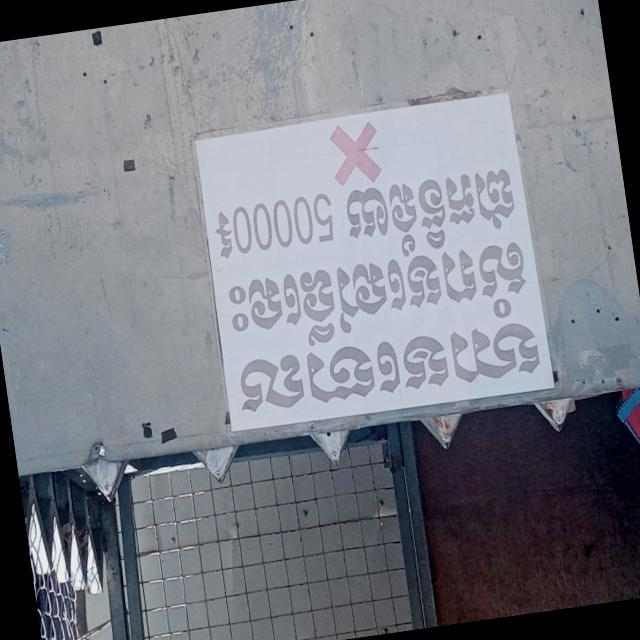71: (182, 157, 543, 292)
Yolov11_80vkh: (207, 236, 550, 364), (231, 314, 561, 432)
